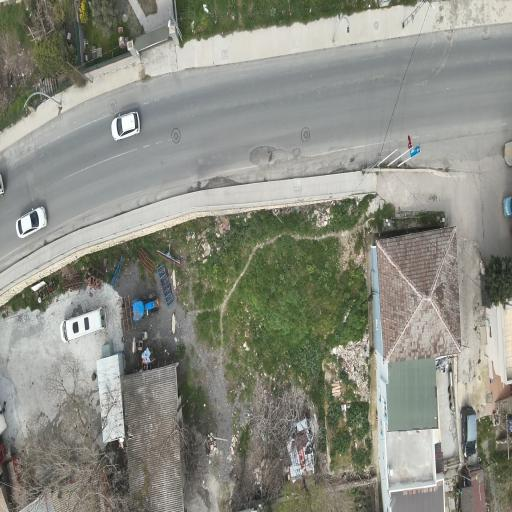car: (60, 306, 106, 342), (16, 207, 47, 237), (460, 406, 477, 458), (132, 293, 159, 321), (112, 112, 139, 140), (503, 196, 512, 217)
